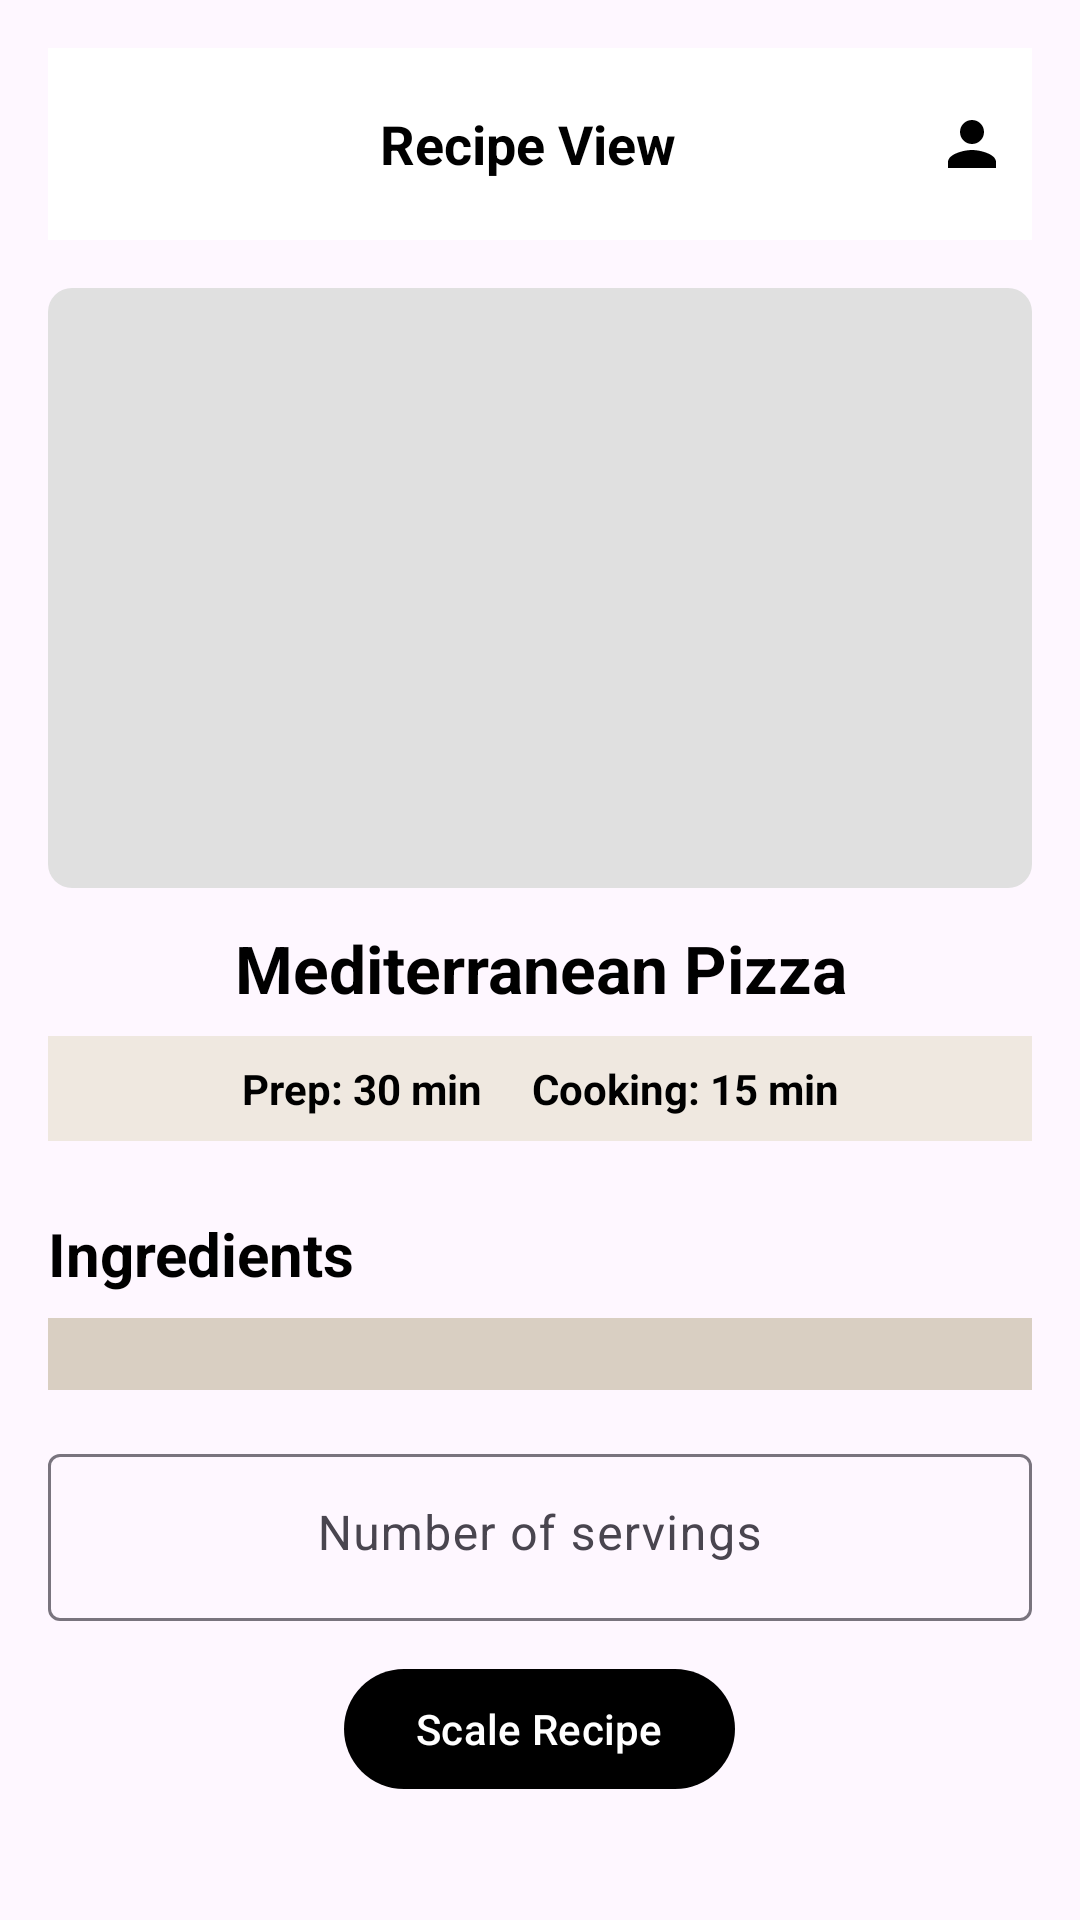

Named icons in this screenshot (1080px x 1920px) and their bounding boxes, (left=x1, top=y1, right=x2, bottom=y2):
Profile: (left=948, top=120, right=996, bottom=168)
